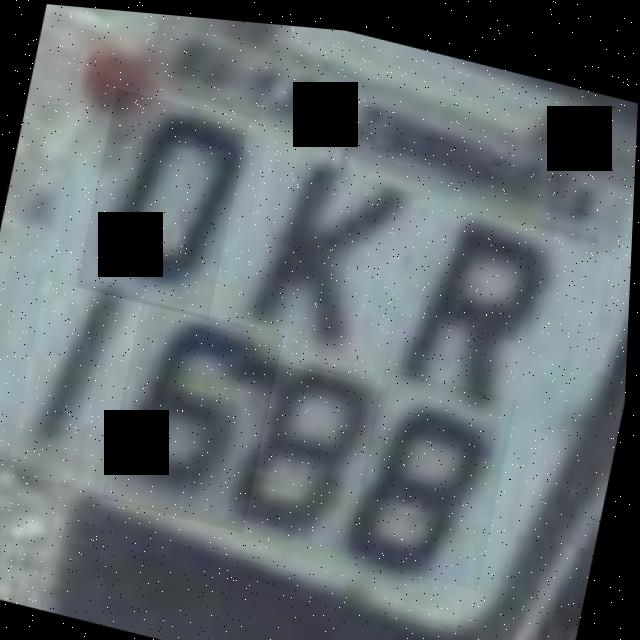1: (12, 276, 153, 496)
6: (106, 295, 288, 531)
8: (349, 358, 521, 584), (228, 330, 397, 556)
K: (223, 129, 406, 354)
O: (78, 84, 251, 318)
R: (391, 172, 566, 395)
